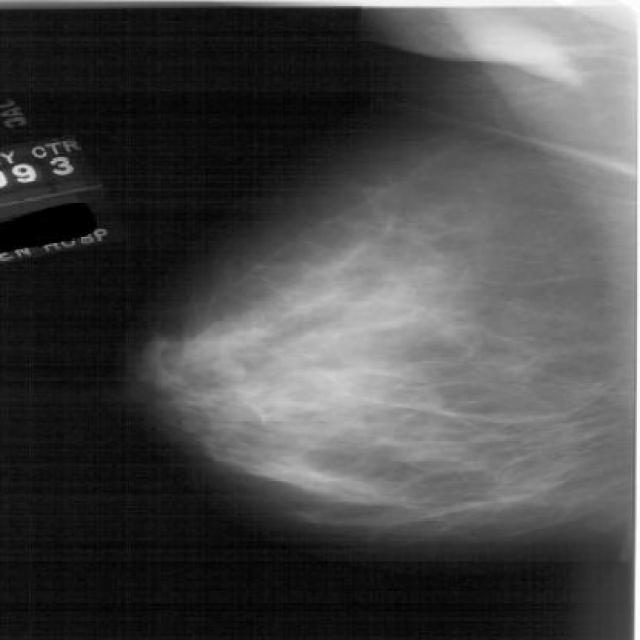tumor: (204, 286, 410, 439)
